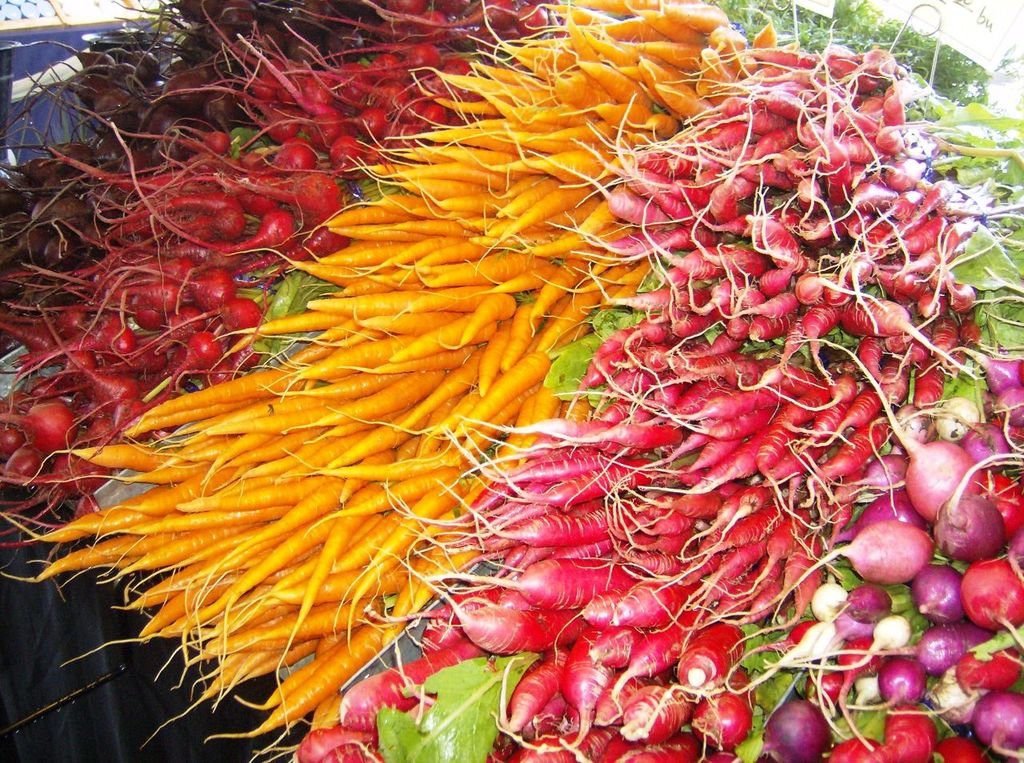Carrot: (0, 0, 800, 762)
